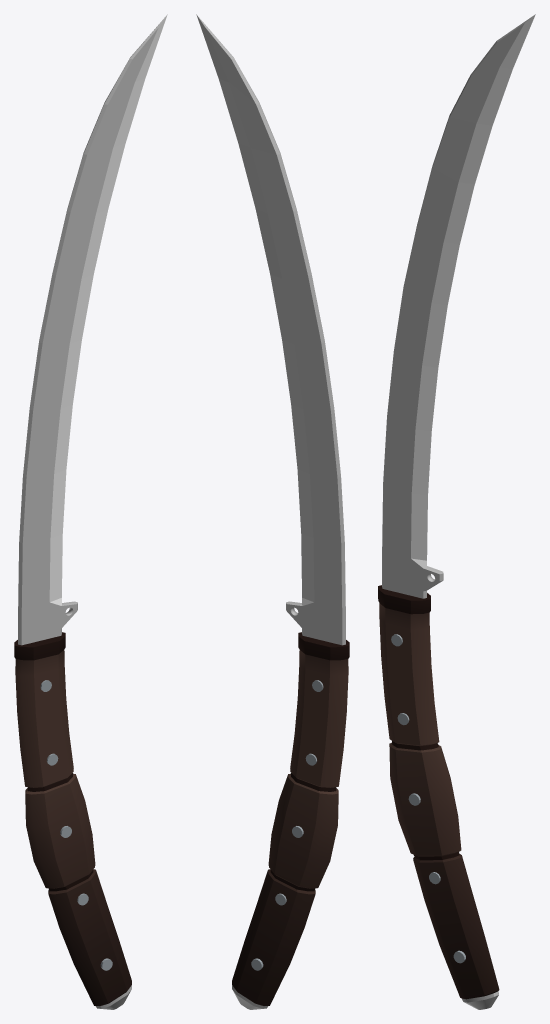
The model's file is SM_Sword14_Rhomphaia_3Silver.fbx.
3 views of the same model, side by side, from view 1: azimuth 30°, elevation 25°; view 2: azimuth 150°, elevation 25°; view 3: azimuth 330°, elevation 25° (orthographic). The views are drawn at different scales.
Parts seen in each view (by area): view 1: Cube.470, Cylinder.586, Cylinder.587; view 2: Cube.470, Cylinder.586, Cylinder.587; view 3: Cube.470, Cylinder.586, Cylinder.587.
Part boxes in pixels (x1=…): Cube.470: x1=18, y1=14, x2=167, y2=645; Cylinder.586: x1=14, y1=632, x2=131, y2=1009; Cylinder.587: x1=40, y1=680, x2=112, y2=970; Cube.470: x1=196, y1=14, x2=345, y2=645; Cylinder.586: x1=232, y1=632, x2=349, y2=1009; Cylinder.587: x1=251, y1=680, x2=323, y2=970; Cube.470: x1=382, y1=14, x2=535, y2=598; Cylinder.586: x1=378, y1=585, x2=499, y2=1009; Cylinder.587: x1=391, y1=634, x2=465, y2=963.
Size of the model in its own units: 0.1365 by 0.8344 by 0.027.
